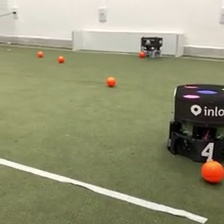ball: (198, 159, 224, 185), (105, 75, 116, 87), (36, 49, 45, 58), (57, 54, 65, 64), (139, 49, 145, 58)
goal: (70, 28, 186, 58)
robot: (165, 82, 224, 164), (139, 35, 163, 58)
